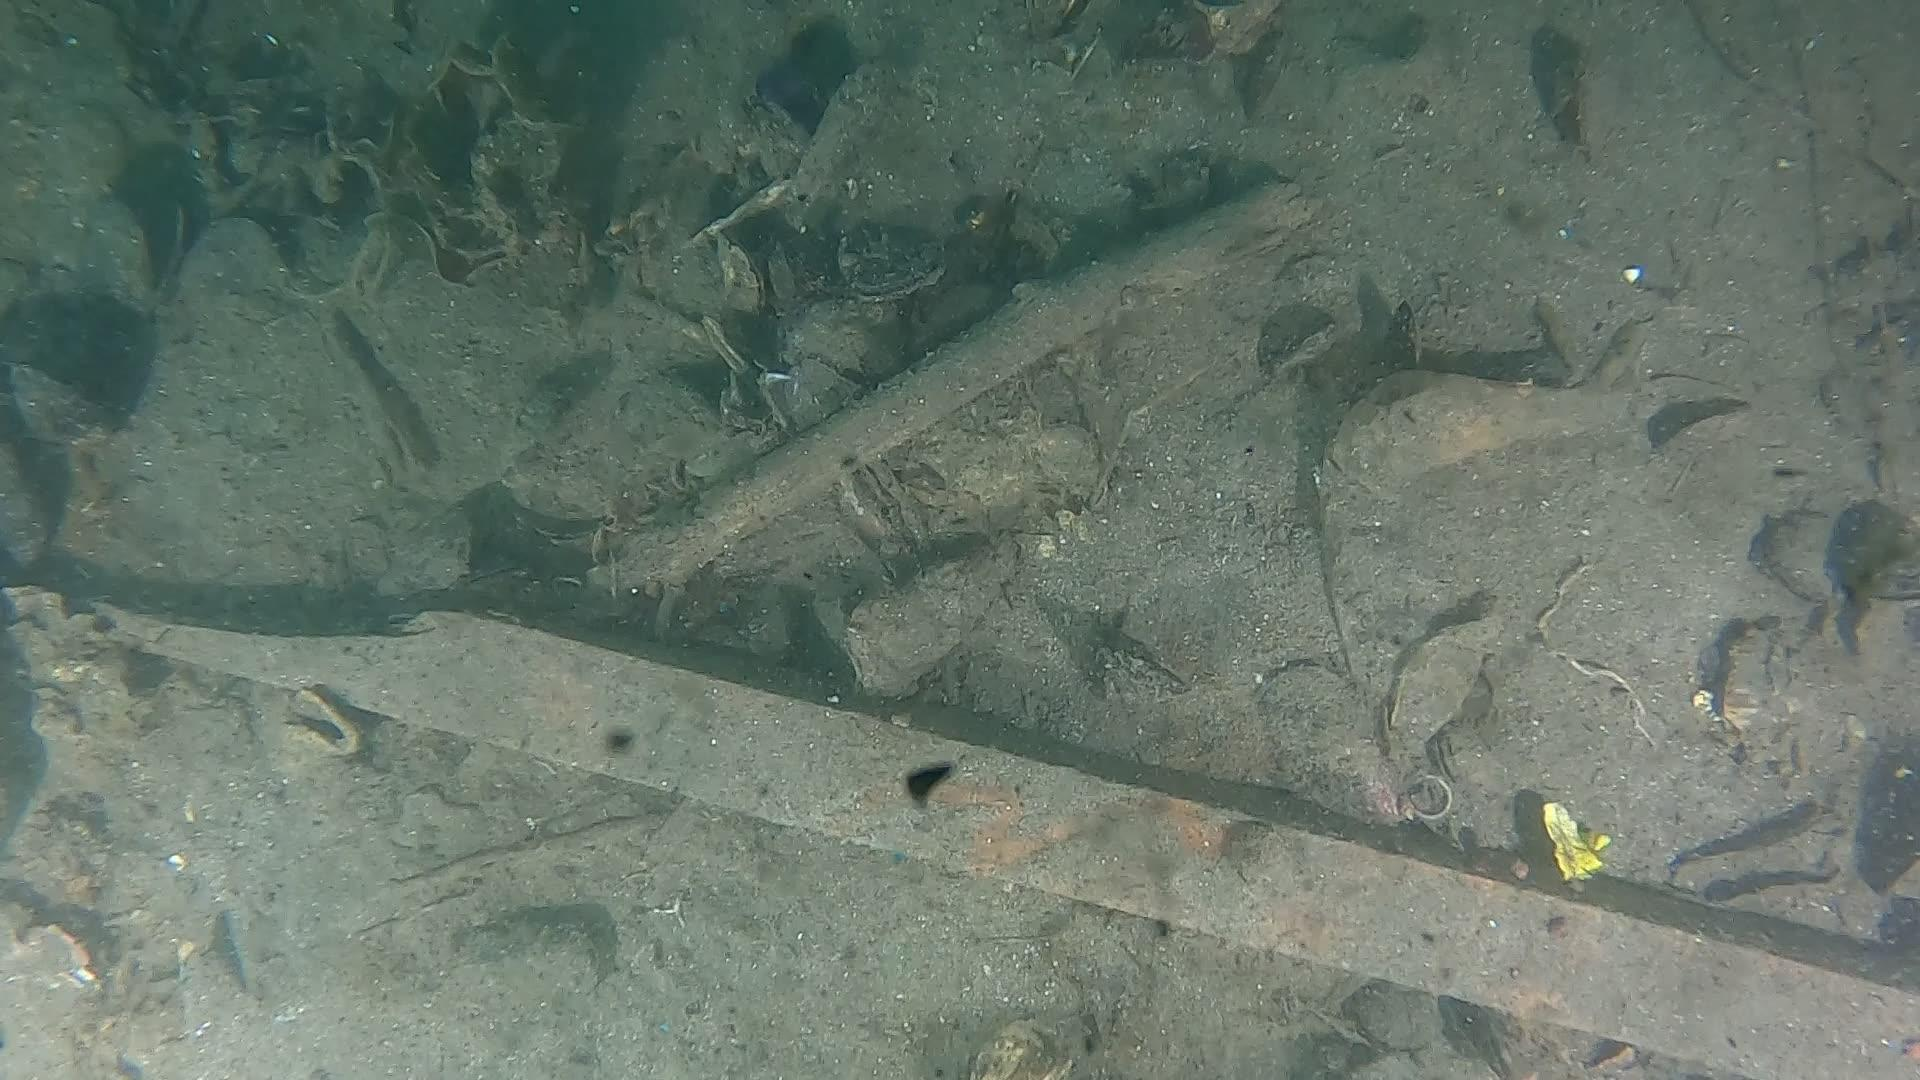wood: (91, 597, 1920, 1080)
